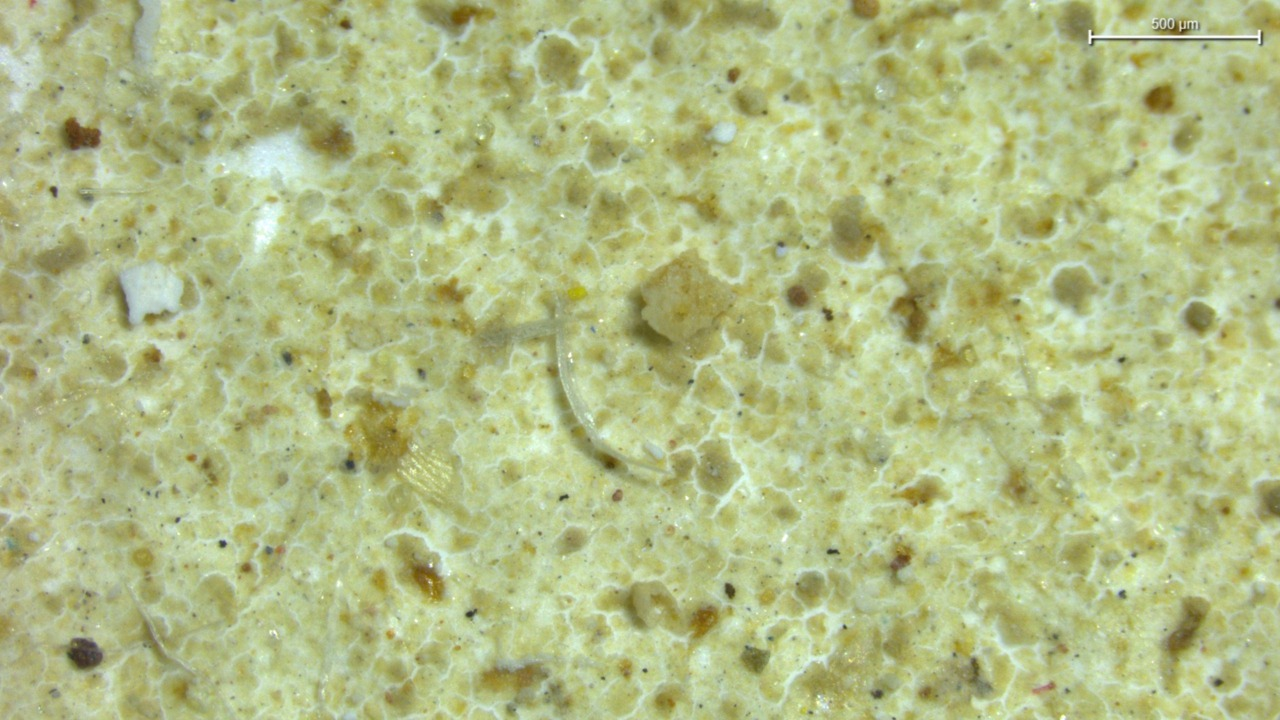microplastic_fragment: (640, 251, 736, 344), (119, 262, 183, 325), (630, 581, 679, 628)
